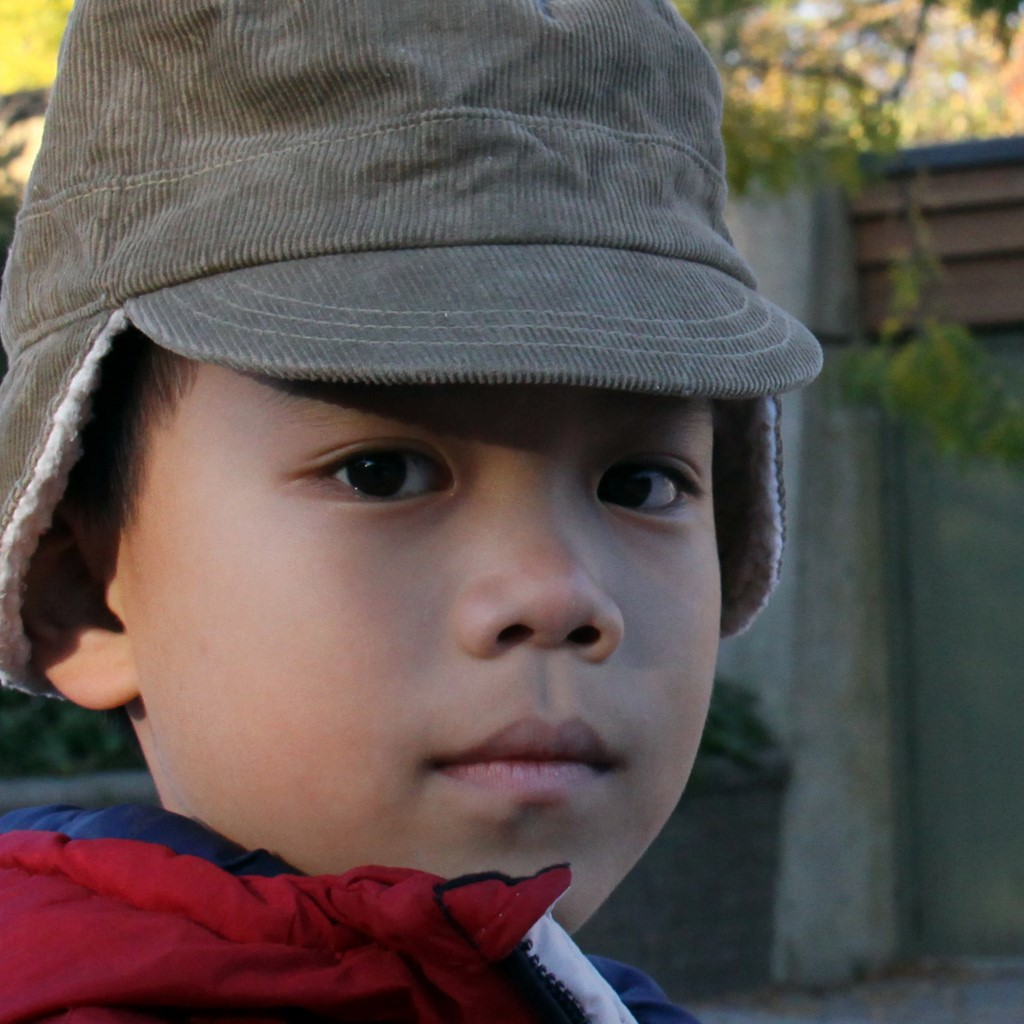sin_mascara: (90, 175, 748, 987)
